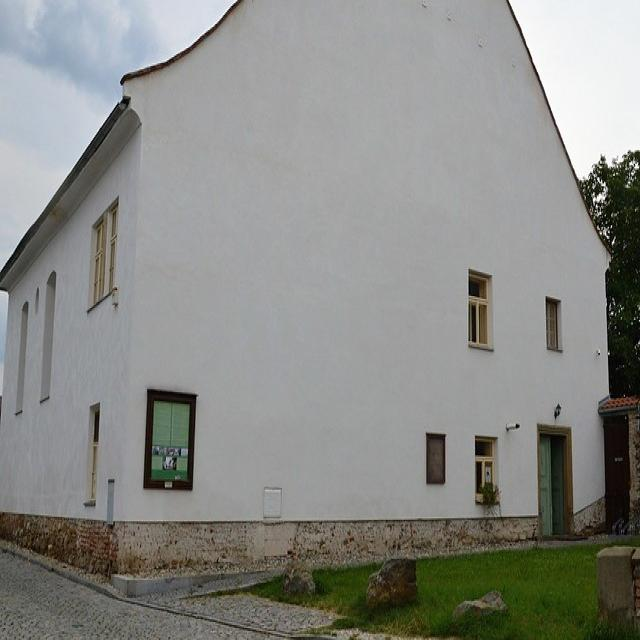Normal_building: (1, 8, 615, 599)
